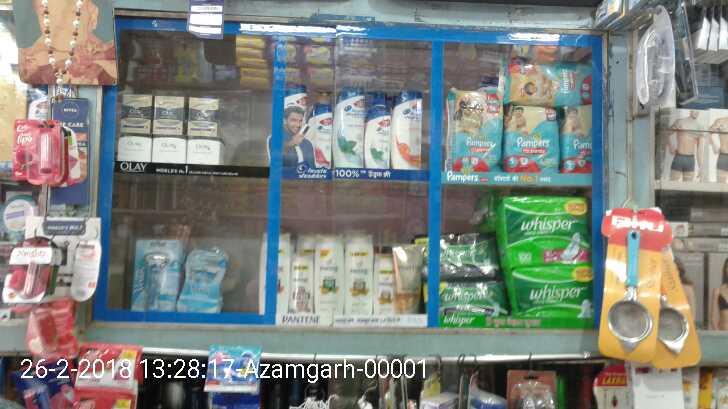venus: (635, 7, 677, 112), (135, 237, 180, 311), (180, 246, 226, 311)
